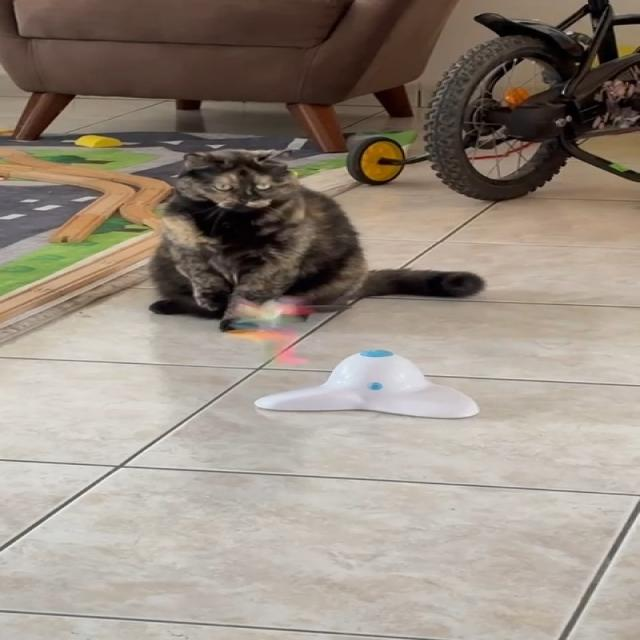authorized: (147, 147, 485, 332)
